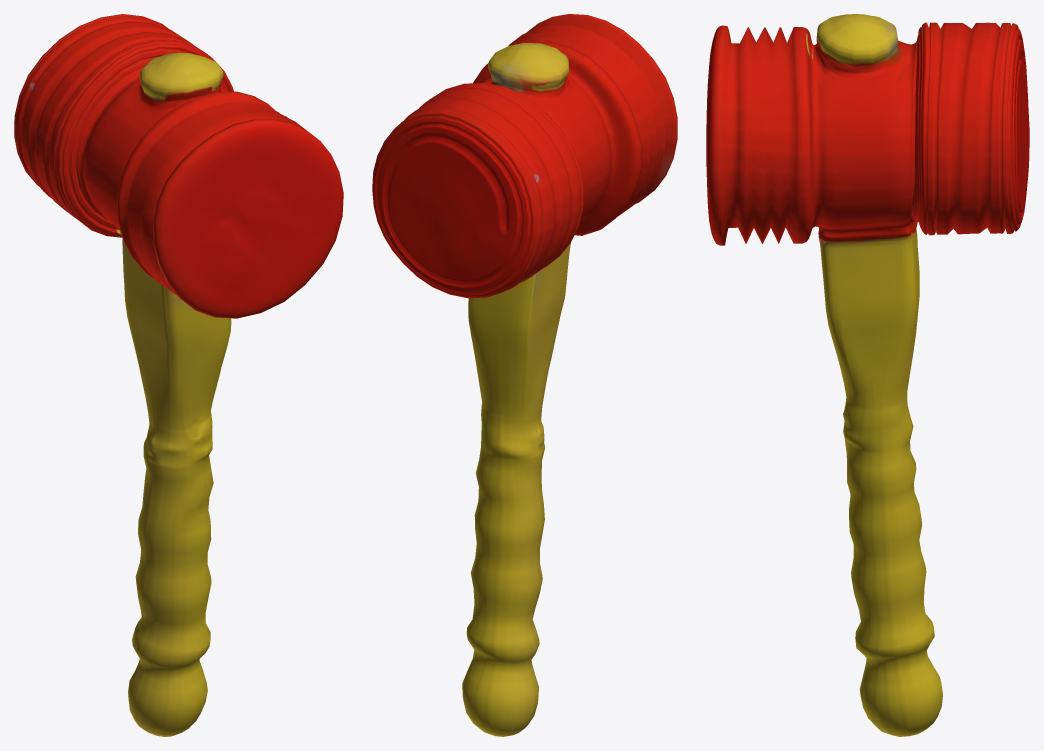
The model's file is pikopiko_hammer.fbx.
The picture shows the model from 3 angles, left to right: view 1: azimuth 30°, elevation 25°; view 2: azimuth 150°, elevation 25°; view 3: azimuth 270°, elevation 25°; orthographic projection. The views are drawn at different scales.
Visible parts, largest first — view 1: pikopiko_hammer; view 2: pikopiko_hammer; view 3: pikopiko_hammer.
Boxes of the visible parts, <box> form: pikopiko_hammer: <box>14,14,343,736</box>; pikopiko_hammer: <box>372,14,677,736</box>; pikopiko_hammer: <box>706,14,1029,736</box>.
Size of the model in its own units: 17.51 by 62.94 by 25.88.
Materials: 1 (1 with a texture image).
